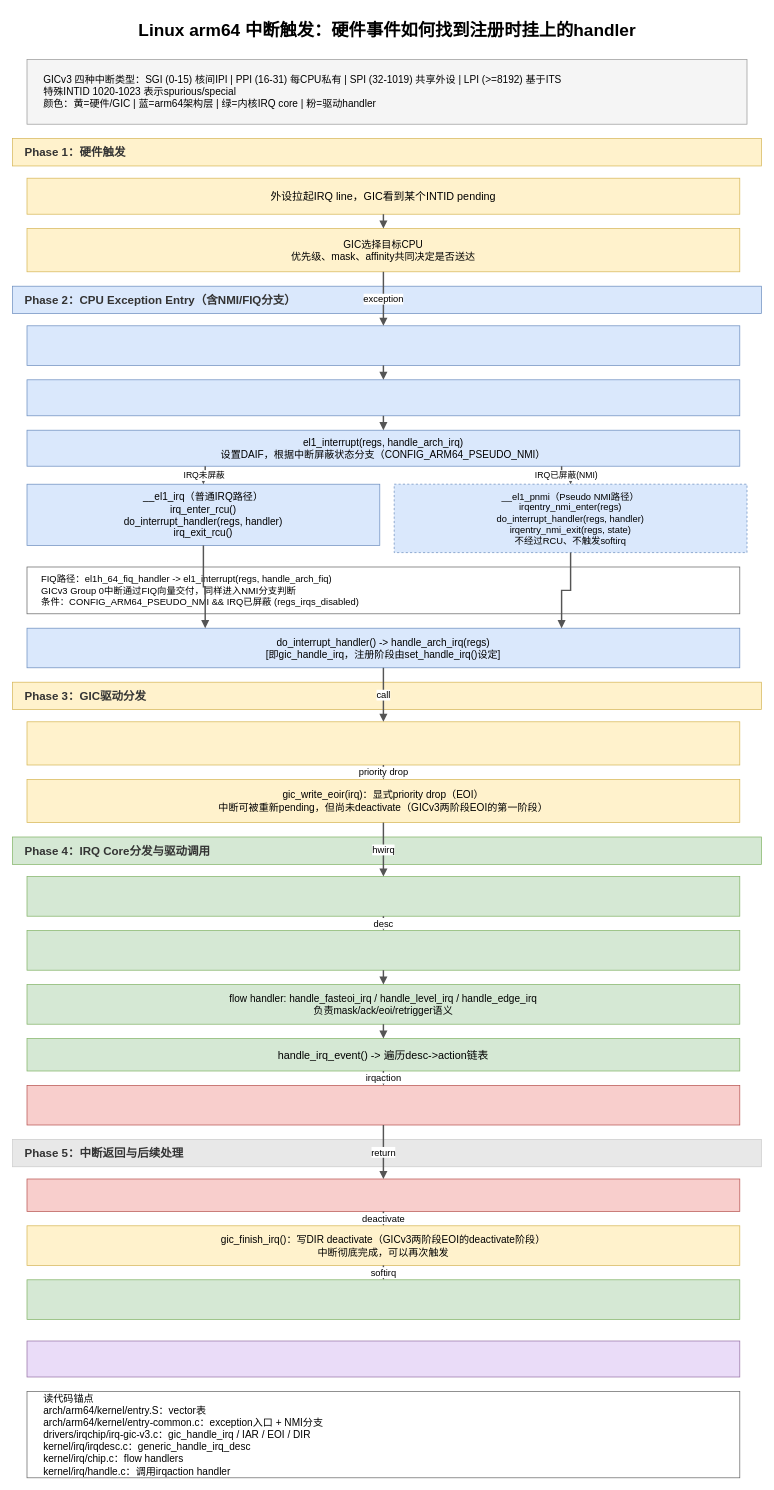
This 774x1490 diagram has some shape labels left out. Here are the shapes that lost their labels. From the top down, the centre of each, then its label:
At [383,345]: "CPU硬件自动进入IRQ exception 保存PC/PSR到SPSR_ELx/ELR_ELx，跳到vector（entry.S）".
At [383,397]: "el1h_64_irq_handler()（内核态入口；用户态走el0路径后进入同类处理）".
At [383,743]: "gic_handle_irq() -> gic_read_iar() 读IAR拿到INTID/hwirq（读操作本身就是ack，隐式priority drop）".
At [383,896]: "generic_handle_domain_irq(domain, hwirq) 用注册阶段建好的irq_domain找virq -> desc".
At [383,950]: "generic_handle_irq_desc(desc) -> desc->handle_irq 即flow handler（注册阶段设定的）".
At [383,1105]: "action->handler(irq, dev_id) 真正进入驱动注册的hardirq handler".
At [383,1194]: "handler返回值：IRQ_HANDLED完成 / IRQ_WAKE_THREAD唤醒threaded IRQ".
At [383,1299]: "irq_exit_rcu() -> invoke_softirq() 处理softirq（tasklet、net_rx等下半部）".
At [383,1358]: "核心跳转：硬件只知道INTID/hwirq -> Linux通过irq_domain找desc -> desc通过action找驱动handler".
